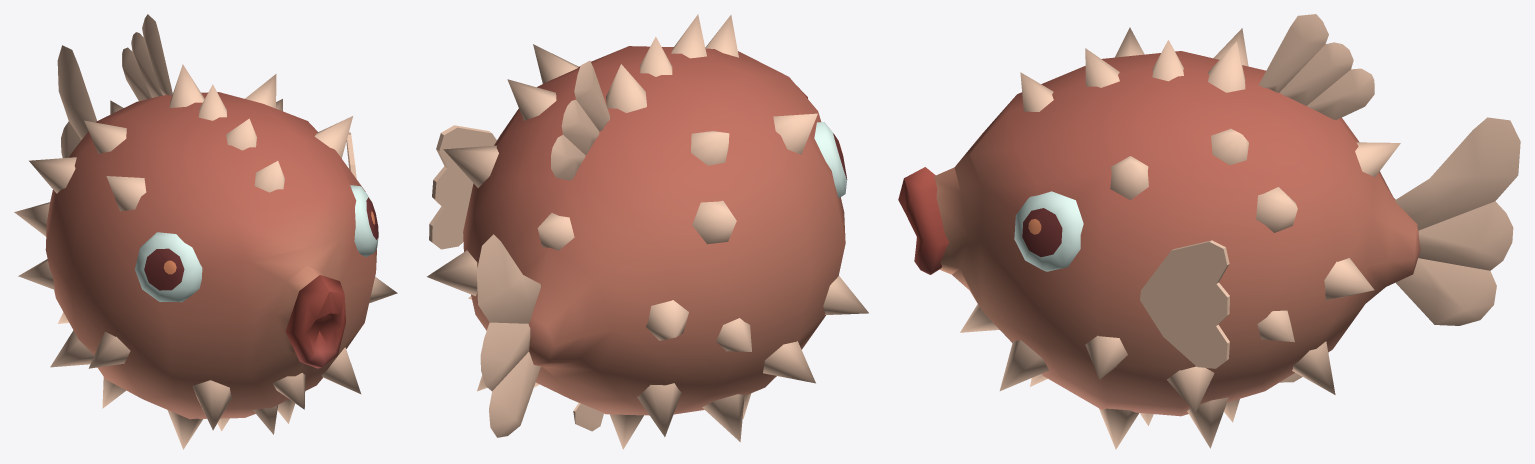
The picture shows the model from 3 angles, left to right: view 1: azimuth 30°, elevation 25°; view 2: azimuth 150°, elevation 25°; view 3: azimuth 270°, elevation 25°; orthographic projection. The views are drawn at different scales.
Visible parts, largest first — view 1: Fish_PufferFish; view 2: Fish_PufferFish; view 3: Fish_PufferFish.
Part boxes in pixels (left/top/right/bottom): Fish_PufferFish: left=14, top=14, right=397, bottom=449; Fish_PufferFish: left=427, top=14, right=868, bottom=449; Fish_PufferFish: left=898, top=14, right=1520, bottom=449.
Size of the model in its own units: 20.87 by 22.25 by 30.43.
